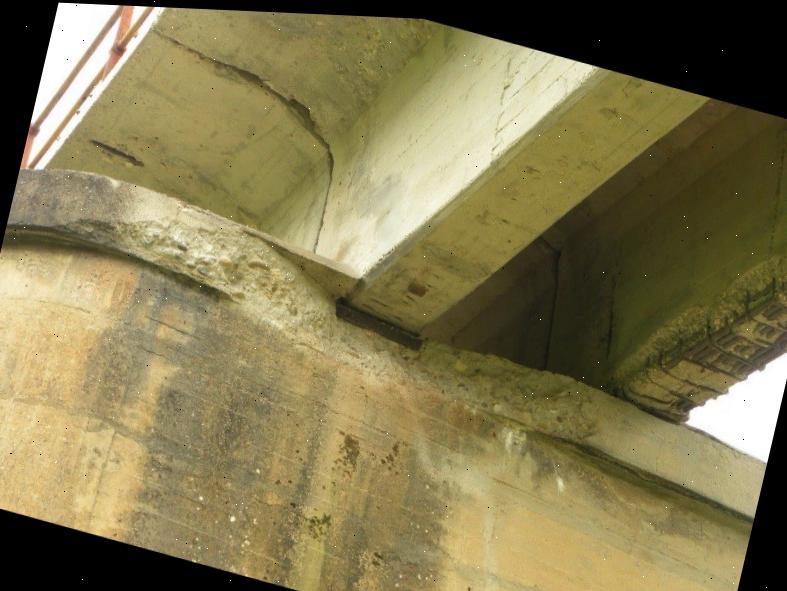spalling: (15, 204, 601, 446), (615, 261, 787, 422)
